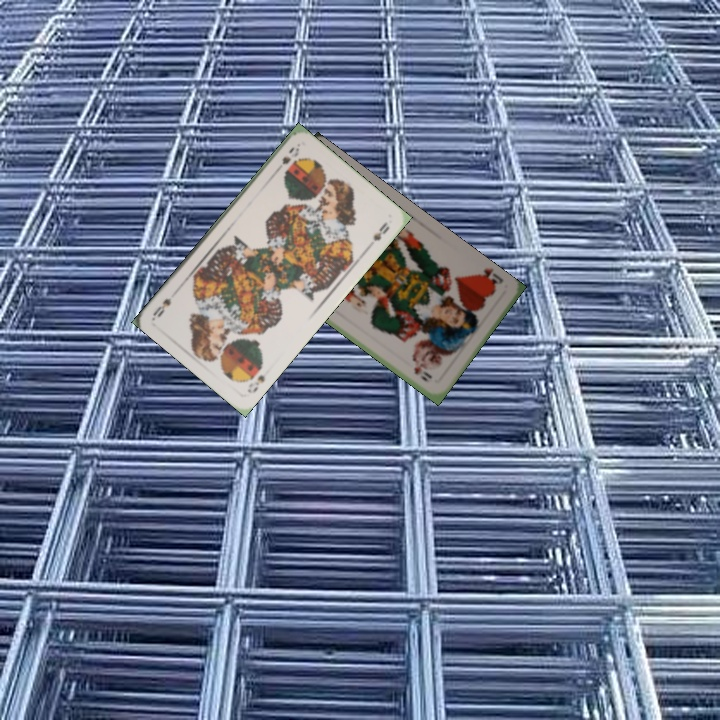HO: (471, 264, 506, 292)
SO: (243, 370, 267, 396), (278, 143, 302, 167)
